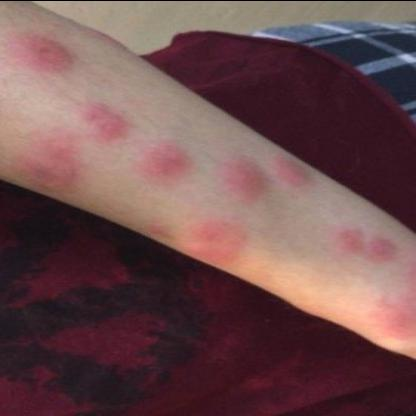Bed Bug: (216, 158, 308, 202), (180, 218, 249, 268), (22, 141, 77, 192), (15, 34, 77, 74), (138, 138, 188, 184), (333, 231, 397, 264), (80, 103, 128, 141), (373, 300, 415, 338), (148, 222, 170, 240)
